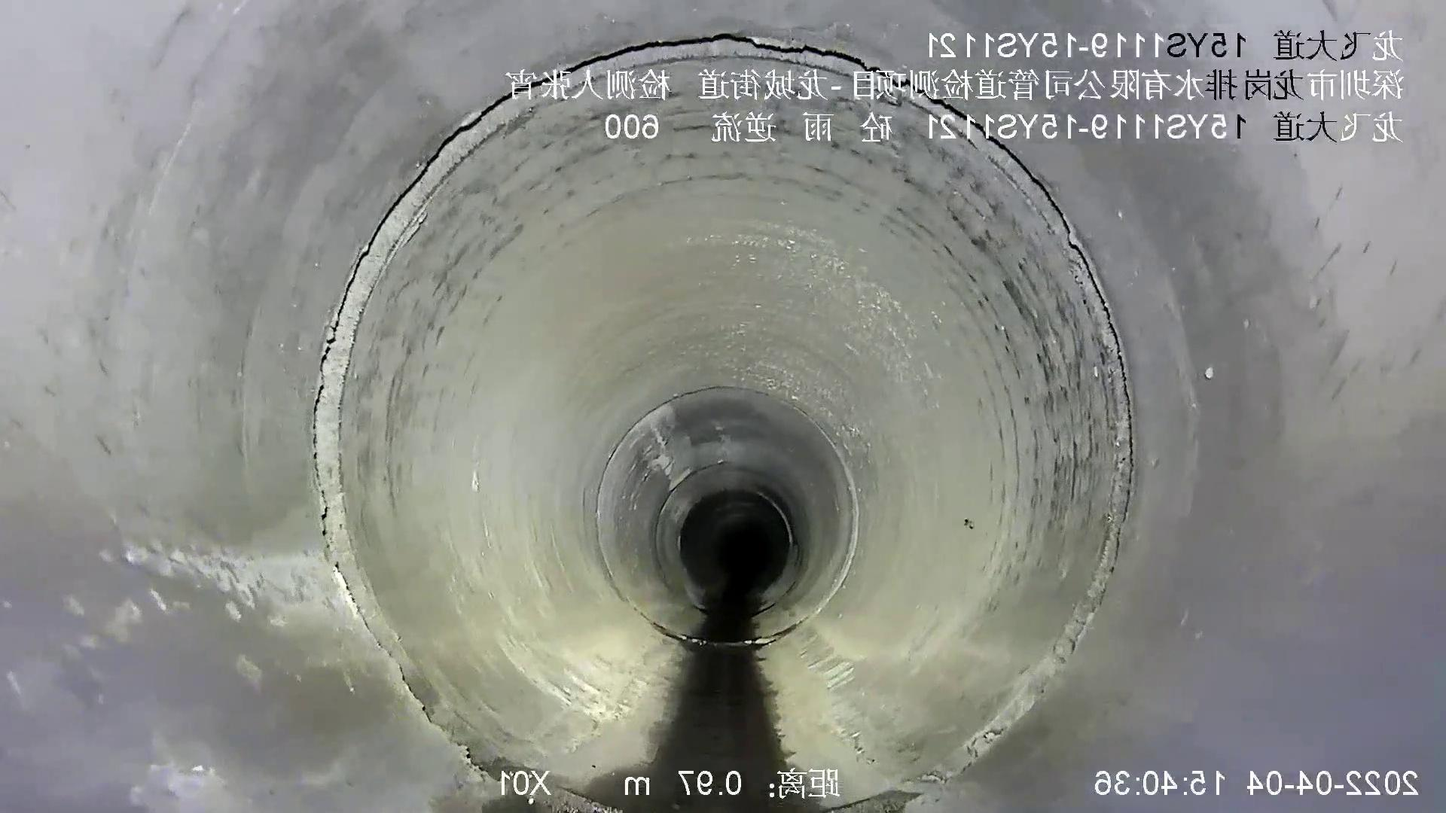CKTJ: (314, 35, 879, 711), (902, 87, 1133, 781)
